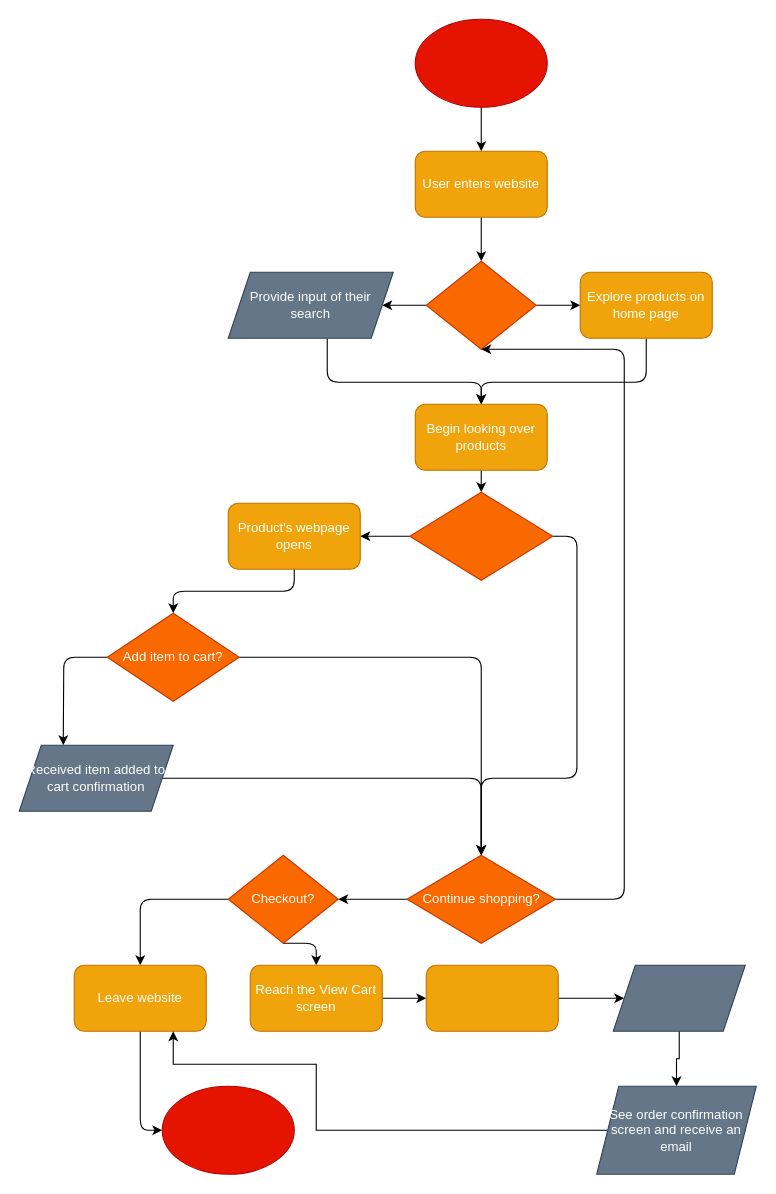
Some shapes in this 776 by 1194 pixel diagram are drawn without their labels. Here are the shapes that lost their labels. From the top down, the centre of each, then its label:
At point 480,62: "Start".
At point 480,304: "Search for product?".
At point 481,535: "View a specific product?".
At point 491,997: "Reach the View Payment screen".
At point 678,997: "Input payment information".
At point 227,1129: "End".
